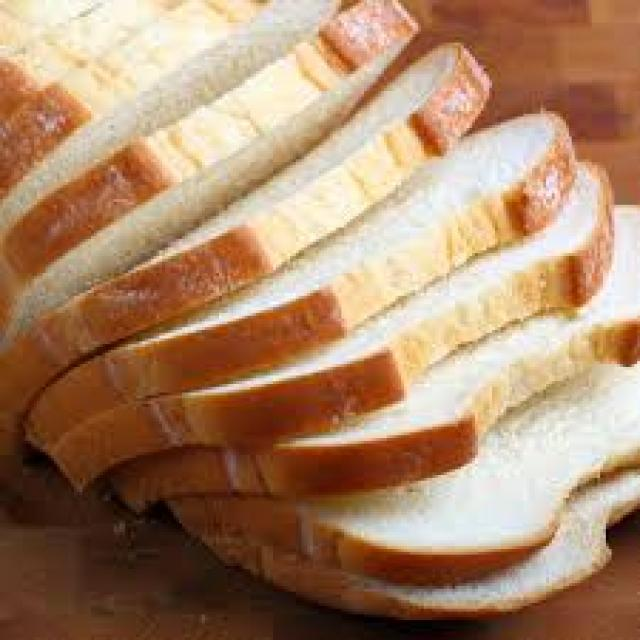Bread: (26, 115, 568, 452), (0, 45, 465, 399), (122, 221, 640, 501), (170, 362, 640, 619), (5, 0, 416, 273), (181, 190, 610, 444), (0, 0, 338, 234)
